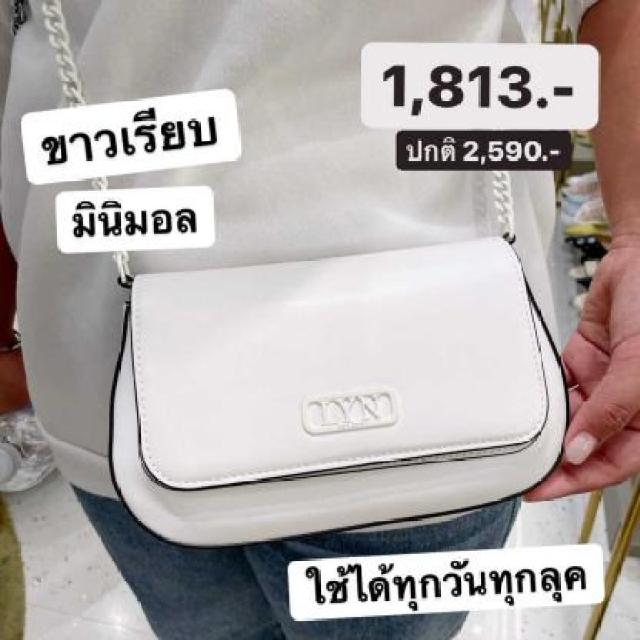Bag: (75, 153, 599, 575)
